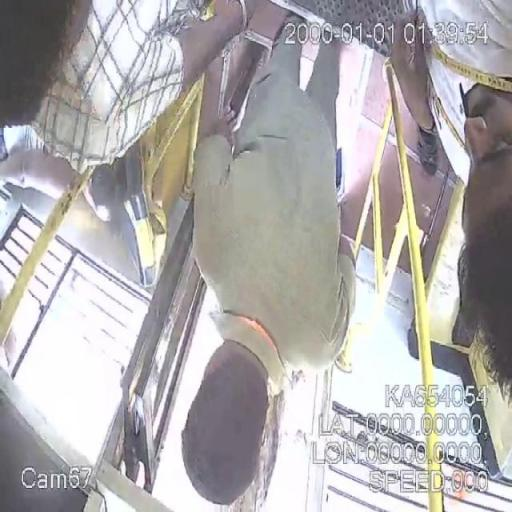persona: (176, 10, 350, 508), (384, 0, 511, 410)
